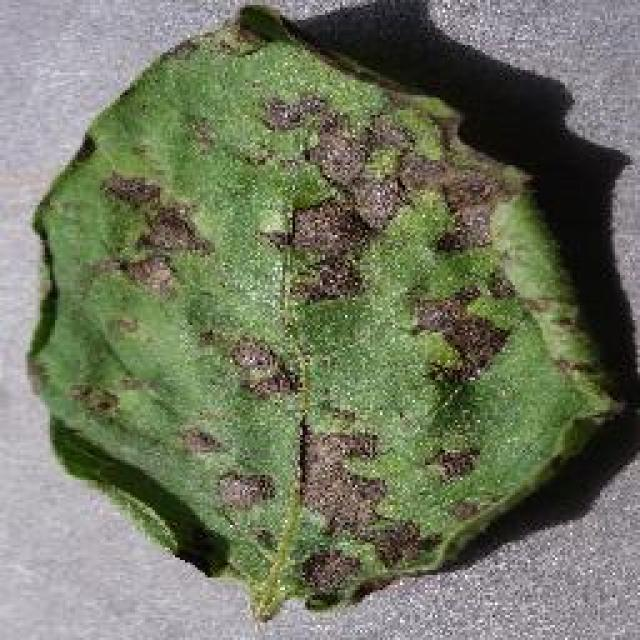Potato: (25, 0, 627, 620)
